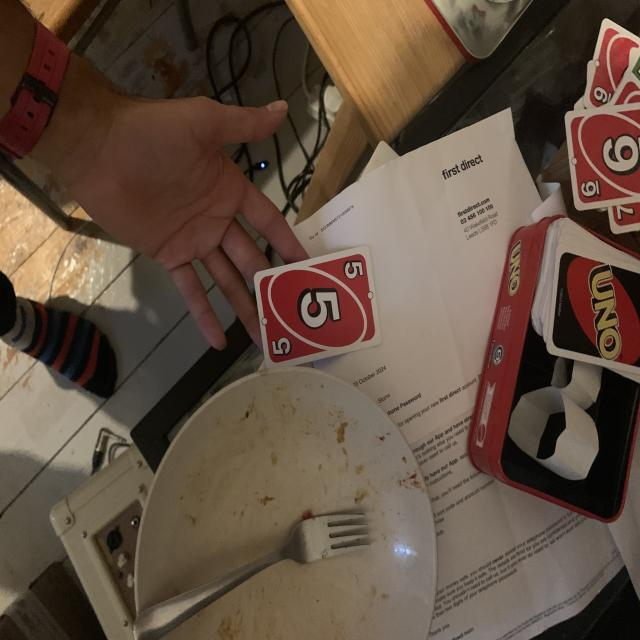lred-5: (339, 257, 366, 282)
